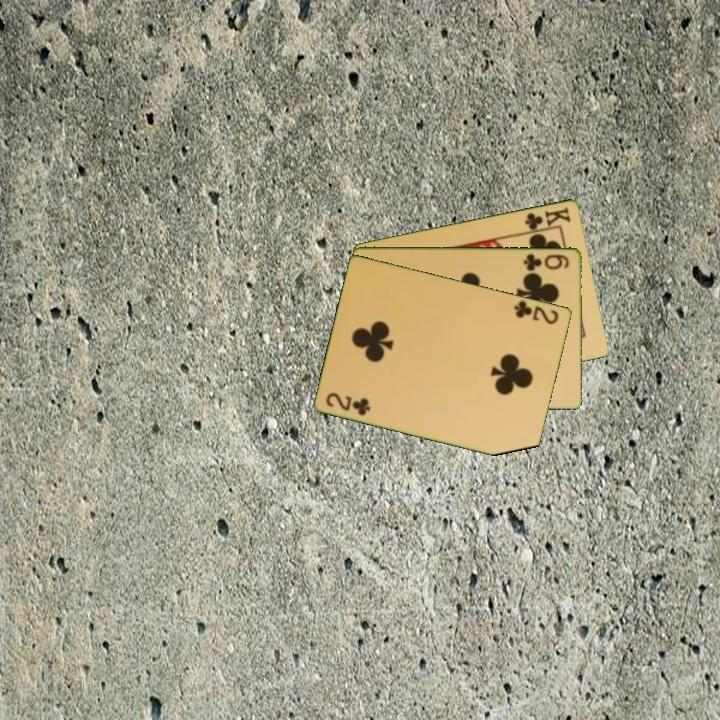2c: (511, 297, 562, 327), (323, 388, 374, 418)
6c: (521, 250, 571, 273)
Kc: (520, 203, 574, 235)
